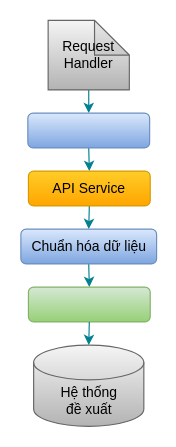
The diagram is 176 pixels wide and 447 high, and some of its shapes have lost their labels. The shapes that lost their labels are listed below. From the top down, each one's centre as x and y in pixels, then its label:
At pixel 88 130: "Search Service".
At pixel 88 304: "AI Đề xuất".
